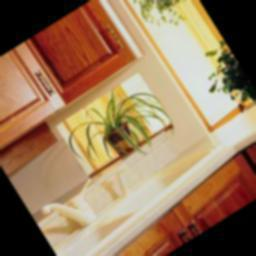Lavaplatos: (35, 109, 242, 256)
